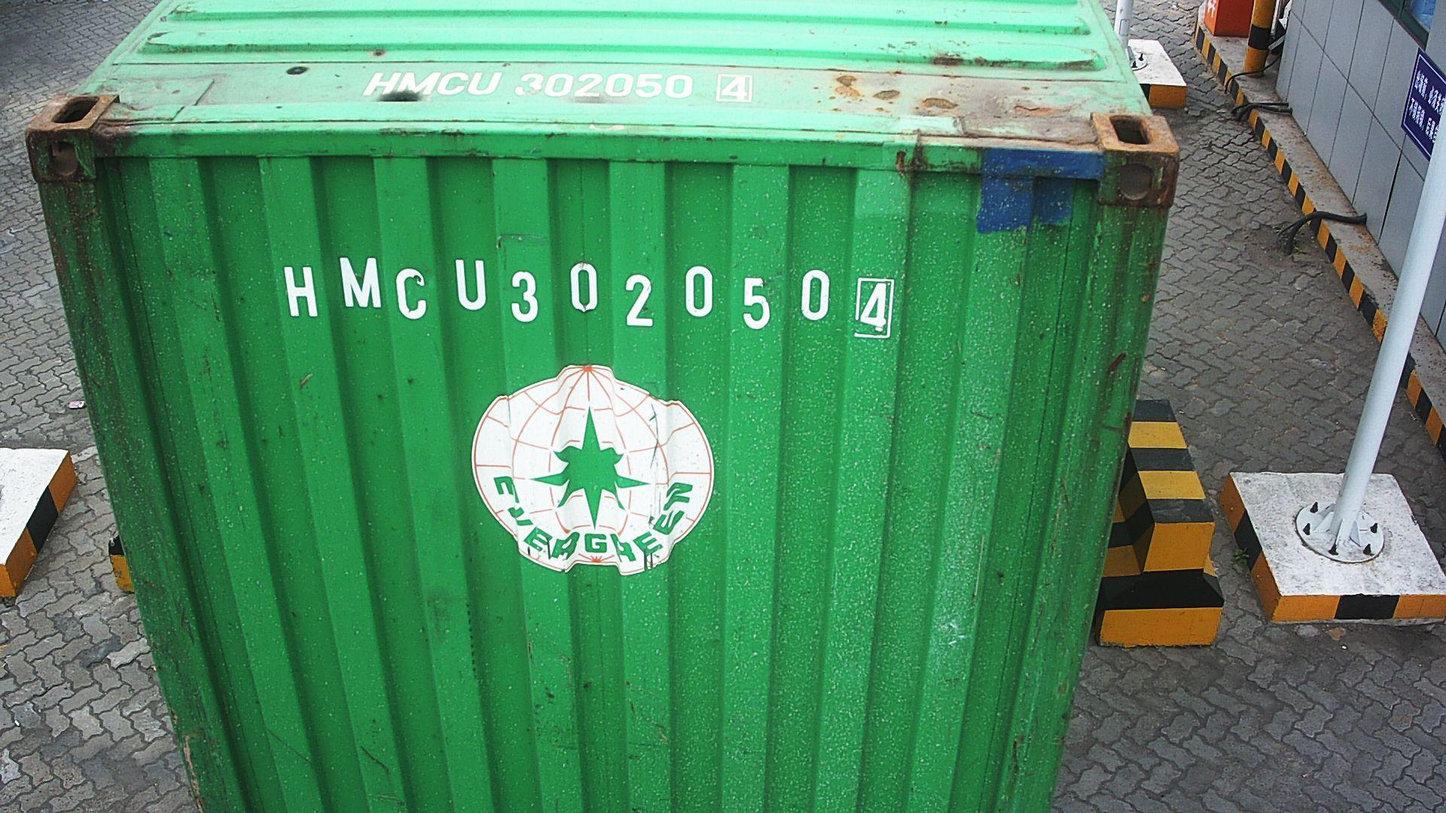container-numbers: (273, 251, 900, 343), (355, 65, 762, 107)
